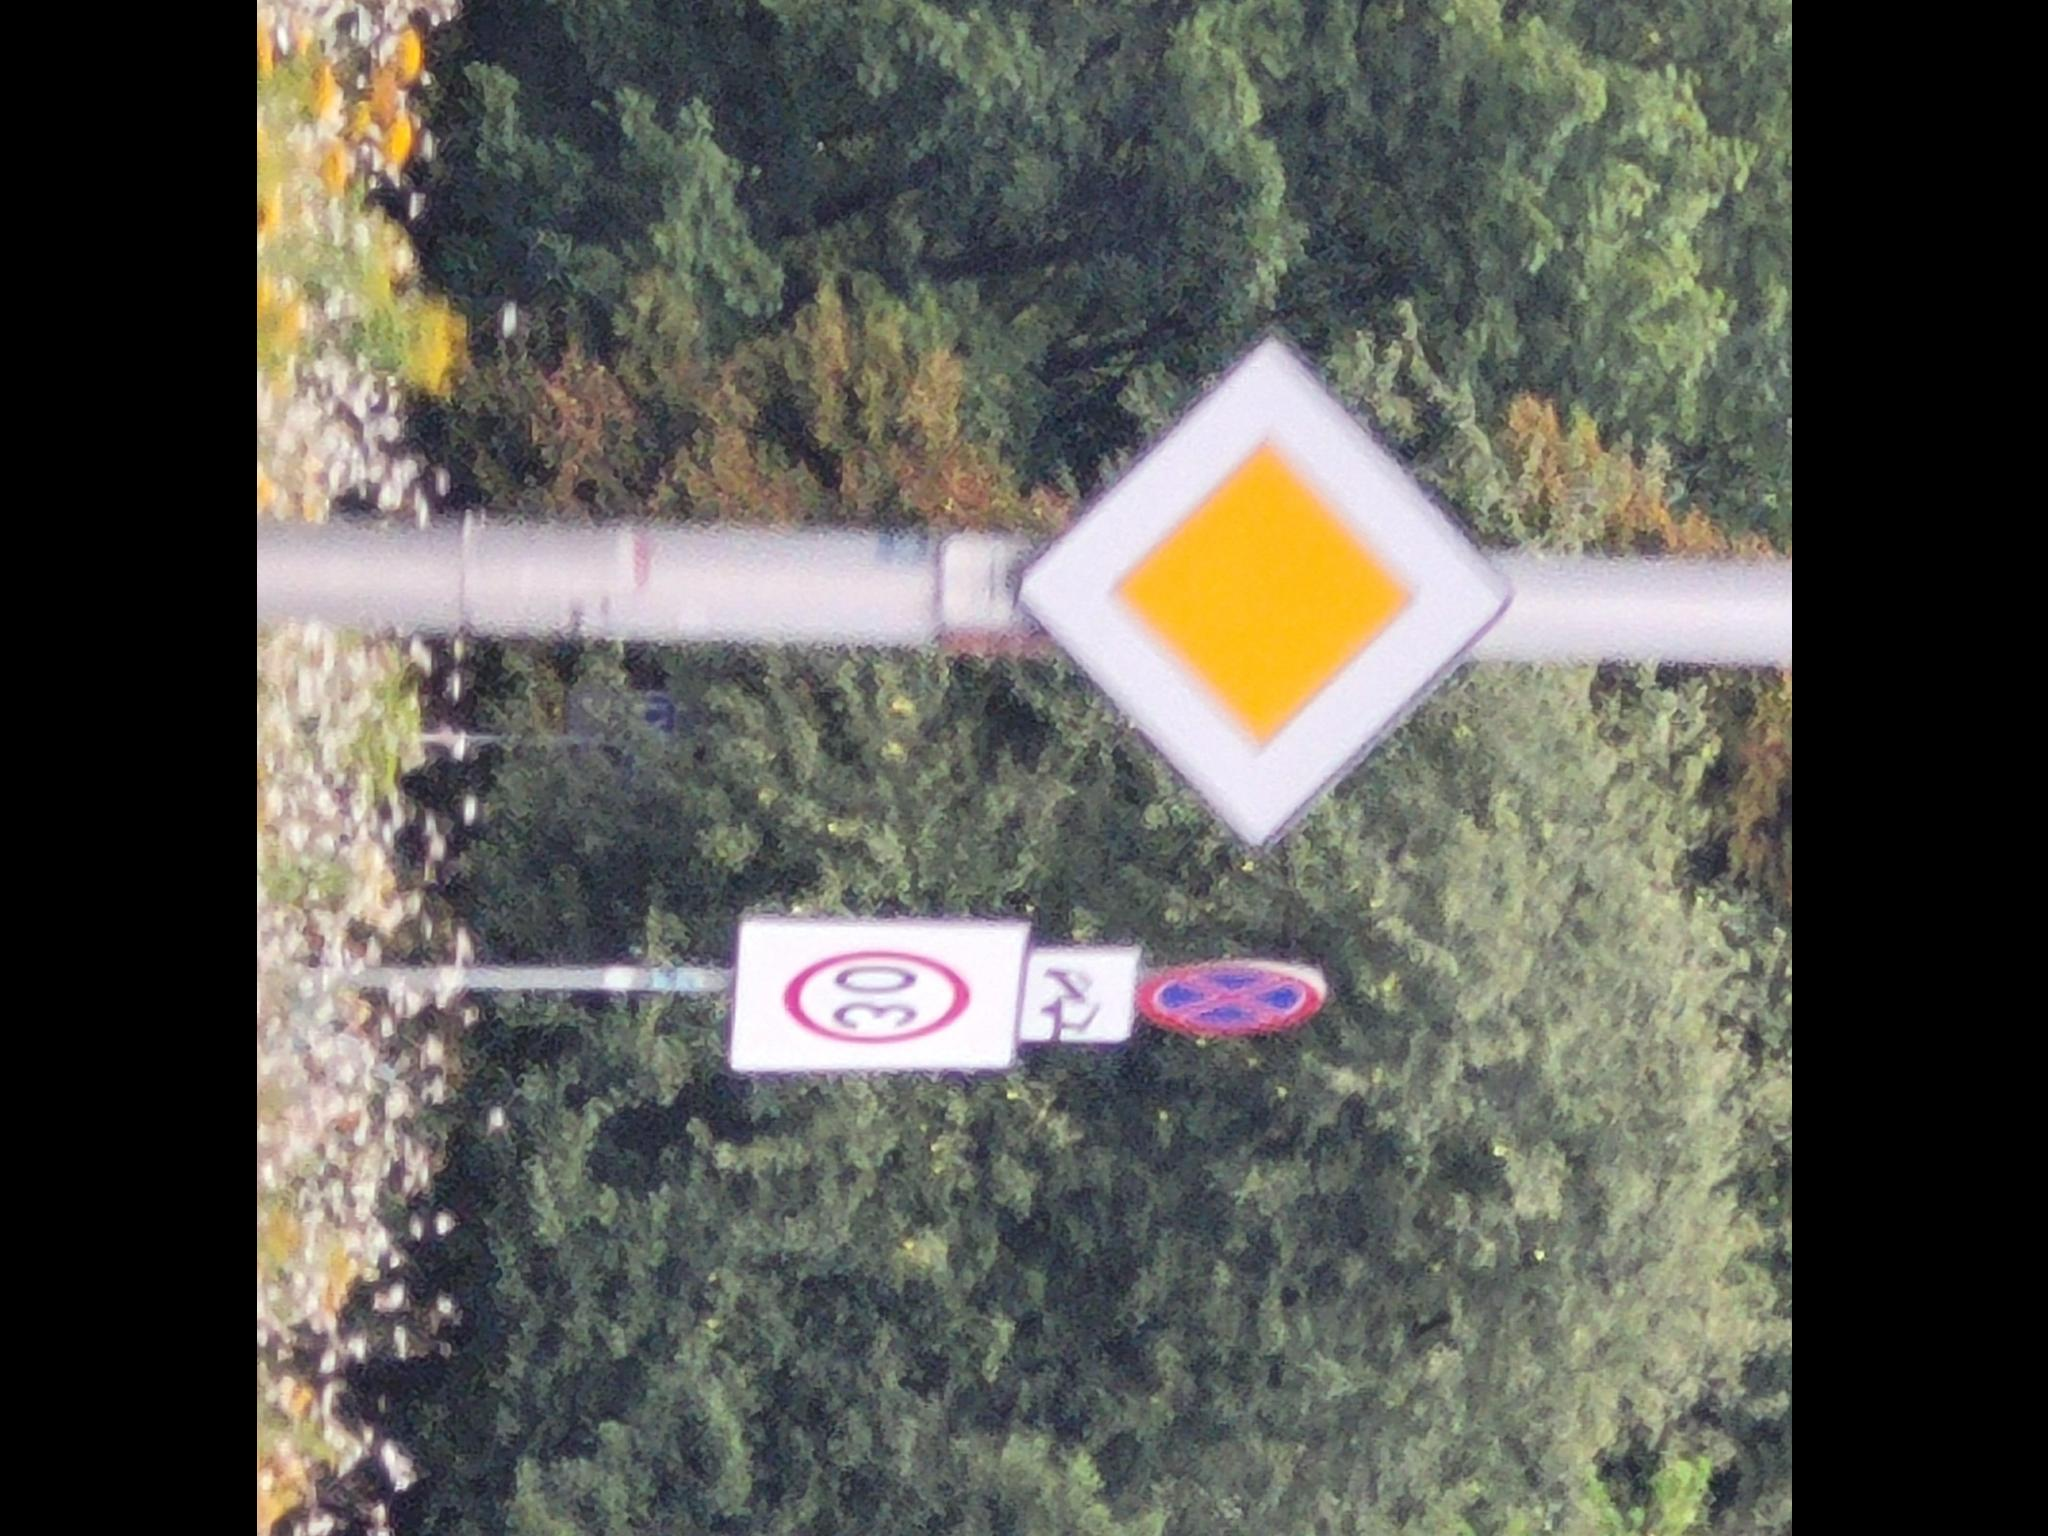information: (1013, 334, 1516, 850)
other: (1021, 941, 1130, 1047)
prohibitory: (779, 945, 976, 1046), (1138, 960, 1329, 1041)
